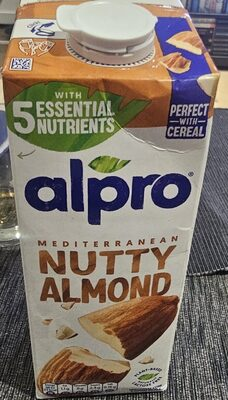Alpro Mandeldrink, Original 1L: (11, 20, 217, 380)
